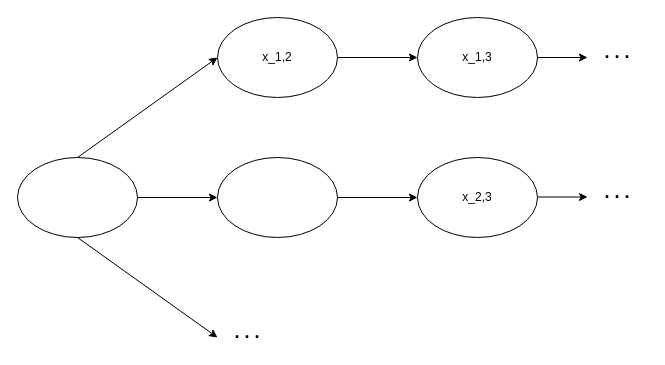
This 665x365 diagram has some shape labels left out. The shapes that lost their labels are listed below. From the top down, each one's centre as x and y in pixels, then its label:
At (x=77, y=197): "x_1".
At (x=277, y=197): "x_2,2".
